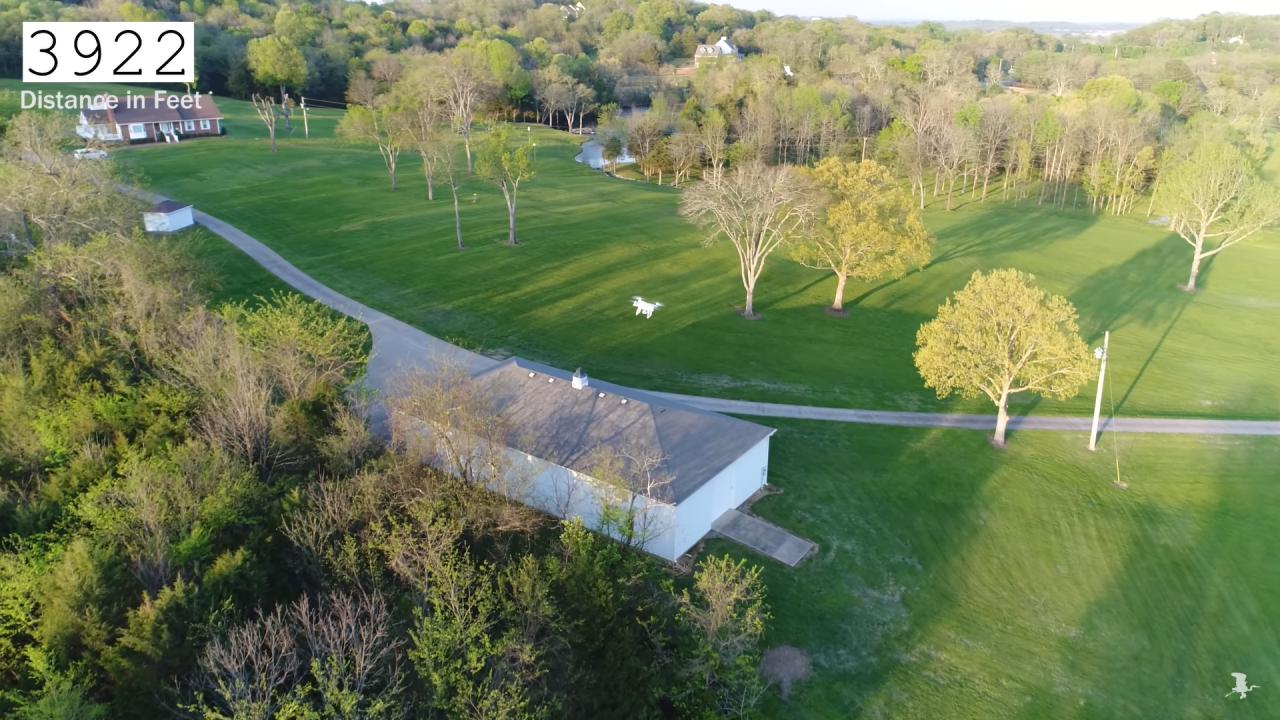Drone: (621, 286, 670, 327)
